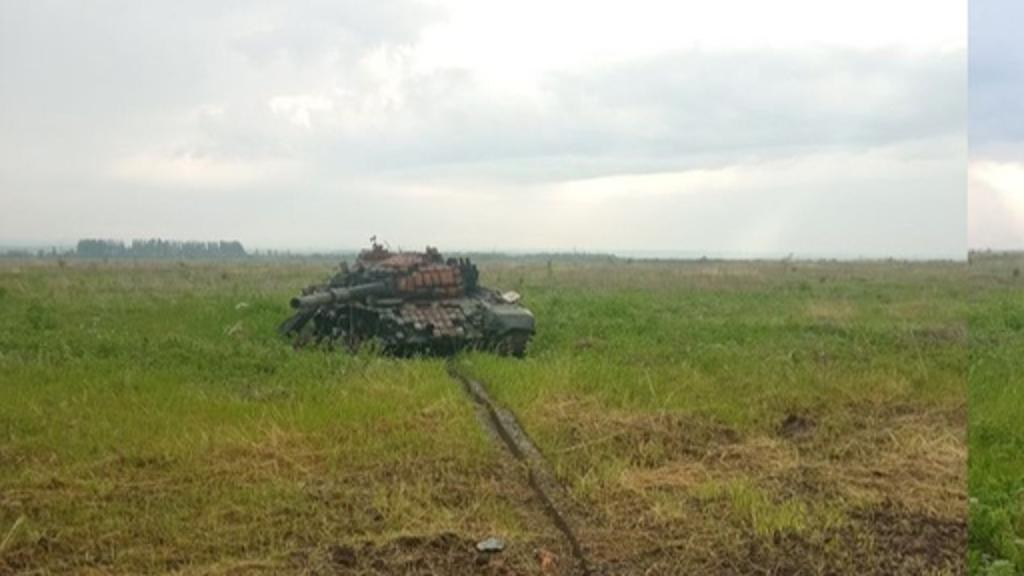TANK: (282, 234, 540, 374)
